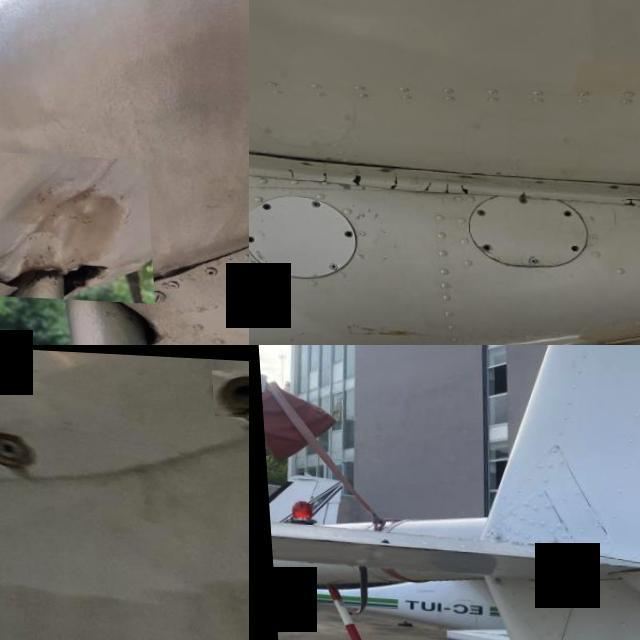Dent: (0, 149, 150, 300)
Missing_Fastener: (211, 364, 249, 412), (566, 240, 576, 248), (478, 240, 488, 248), (340, 228, 350, 236), (560, 205, 570, 212), (258, 202, 268, 209), (376, 166, 388, 171), (298, 161, 308, 164), (249, 234, 252, 242)
